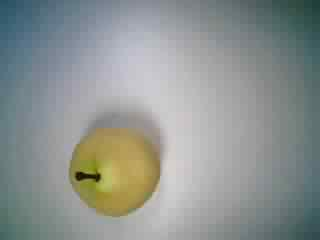pear: (58, 113, 163, 226)
